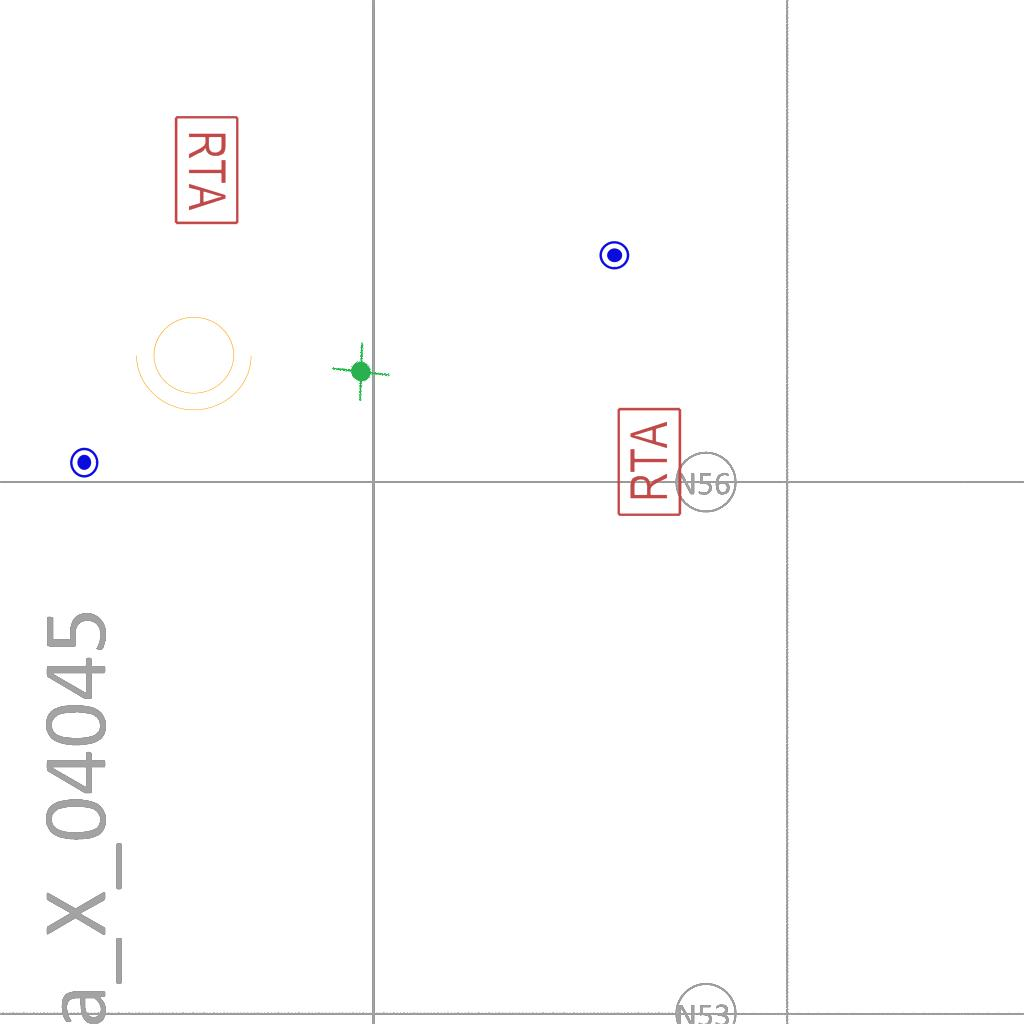Notlichtbaustein_in_Allgemeinbeleuchtug_engebaut_Einbau_(1UG_und_2UG_Aufbauvaria: (324, 336, 397, 408)
Ruf-und_Abstelltaster: (172, 112, 241, 226), (615, 406, 684, 520)
Scheinwerfer_fuer_Alarmbeleuchtung: (131, 304, 263, 416)
Taster: (69, 446, 102, 479), (598, 240, 631, 273)
